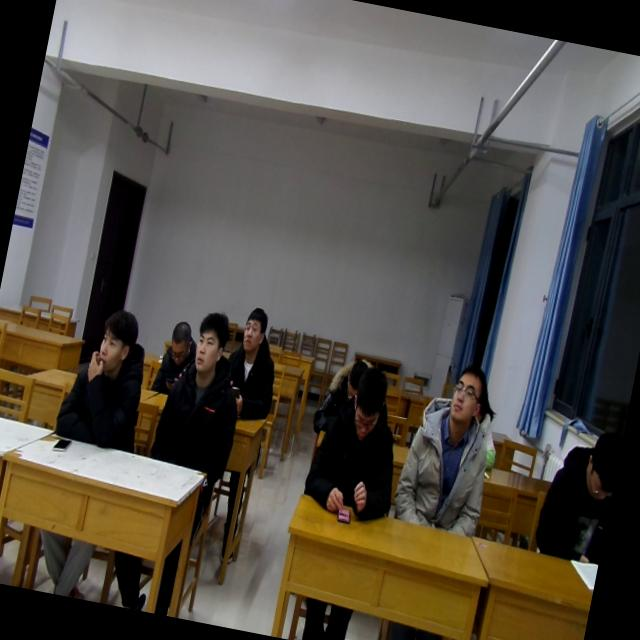bow: (308, 347, 378, 445)
down: (574, 418, 624, 514), (342, 362, 392, 443), (163, 312, 196, 368), (340, 354, 370, 402)
lookup: (90, 304, 143, 381), (186, 306, 235, 387), (444, 360, 494, 428), (236, 302, 274, 359)
sit: (388, 352, 509, 538), (146, 304, 260, 480), (298, 357, 418, 523), (52, 298, 162, 454), (530, 418, 624, 569), (215, 303, 291, 427), (149, 310, 206, 397)
